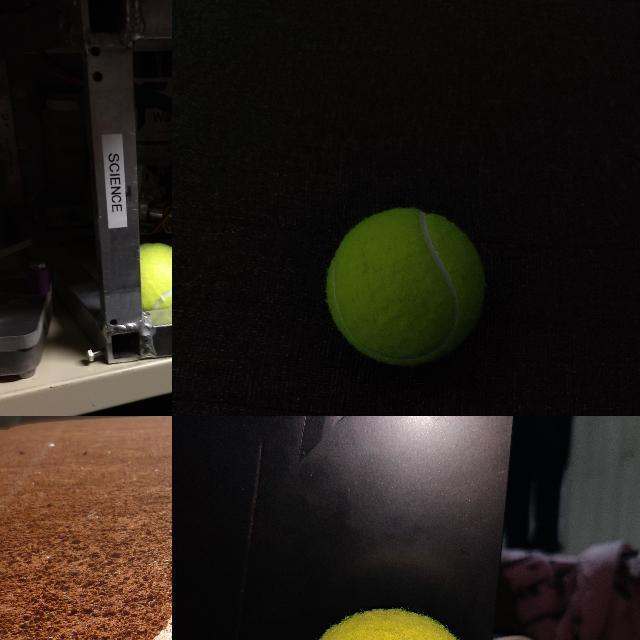tennis-ball: (325, 208, 486, 365), (142, 242, 171, 306)
